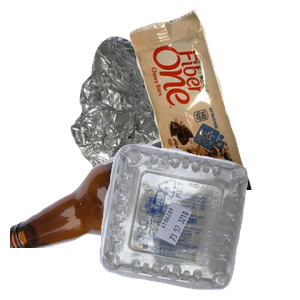glass: (10, 120, 247, 300)
metal: (68, 34, 300, 214)
plastic: (97, 141, 300, 300)
trash: (127, 10, 300, 190)
